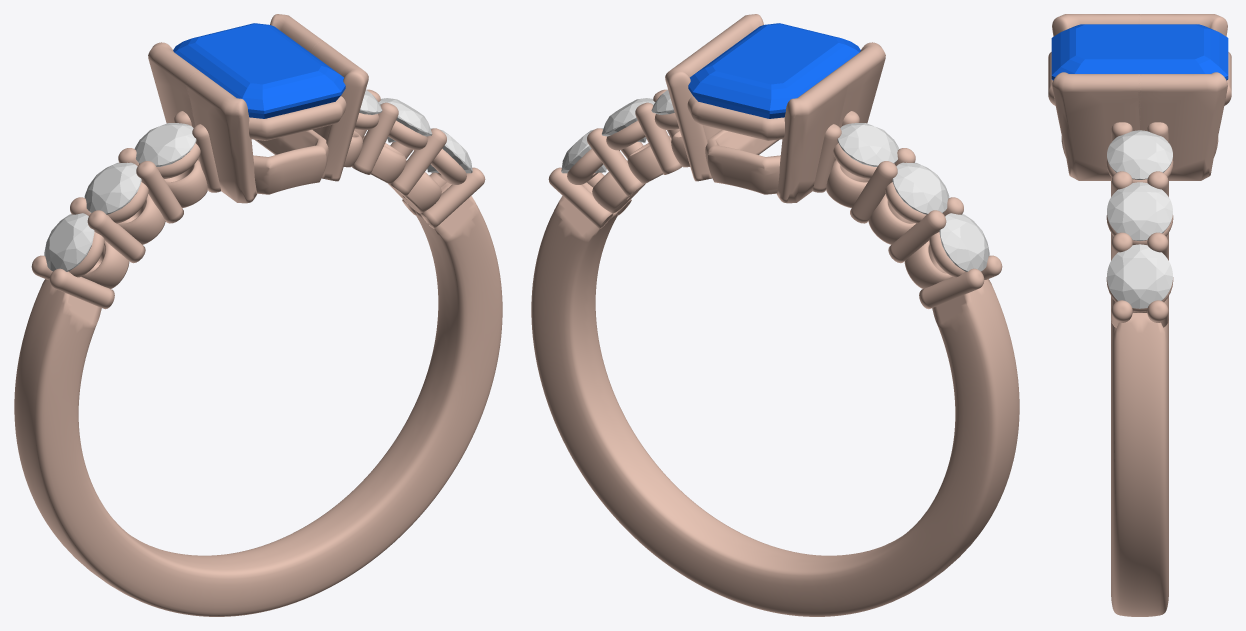
The model's file is bluesapphire-emerald-rosegold-halfmoonbezel-straightband-7stone.glb.
3 views of the same model, side by side, from view 1: azimuth 30°, elevation 25°; view 2: azimuth 150°, elevation 25°; view 3: azimuth 270°, elevation 25° (orthographic).
Parts seen in each view (by area): view 1: metal, stone.002, side.012, side.013, side.014, side.016; view 2: metal, stone.002, side.012, side.013, side.014, side.016; view 3: metal, stone.002, side.017, side.016, side.015.
Boxes of the visible parts, x1,y1,x2,y2 form: metal: (14, 14, 502, 616); stone.002: (173, 23, 345, 118); side.012: (44, 213, 94, 271); side.013: (84, 162, 141, 214); side.014: (134, 123, 196, 166); side.016: (378, 98, 432, 142); metal: (531, 14, 1019, 616); stone.002: (688, 23, 860, 118); side.012: (939, 213, 989, 271); side.013: (892, 162, 949, 214); side.014: (837, 123, 899, 166); side.016: (601, 98, 655, 142); metal: (1048, 14, 1231, 616); stone.002: (1051, 24, 1228, 80); side.017: (1107, 244, 1172, 308); side.016: (1107, 182, 1172, 240); side.015: (1107, 130, 1172, 179).
Size of the model in its own units: 20.49 by 22.94 by 6.94.
